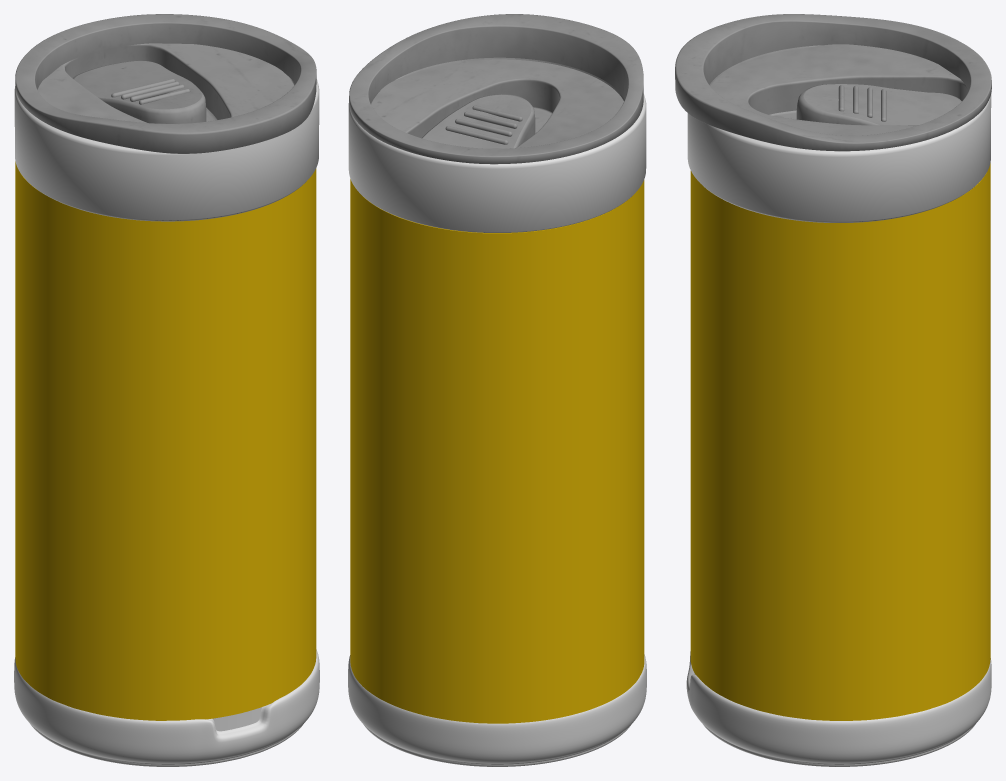
The model's file is wrapware_cup_v_5.glb.
The picture shows the model from 3 angles, left to right: view 1: azimuth 30°, elevation 25°; view 2: azimuth 150°, elevation 25°; view 3: azimuth 270°, elevation 25°; orthographic projection. The views are drawn at different scales.
Parts seen in each view (by area): view 1: Wrapper, Body, Lid; view 2: Wrapper, Lid, Body; view 3: Wrapper, Lid, Body.
Boxes of the visible parts, x1,y1,x2,y2 form: Wrapper: [15, 161, 316, 720]; Body: [14, 79, 319, 766]; Lid: [15, 14, 316, 153]; Wrapper: [350, 179, 644, 723]; Lid: [349, 14, 643, 164]; Body: [348, 94, 646, 766]; Wrapper: [690, 163, 990, 720]; Lid: [675, 14, 991, 151]; Body: [686, 94, 991, 766].
Bounding box in the file's own units: 0.2583 × 0.5996 × 0.2685.
4 materials, 2 textured.
